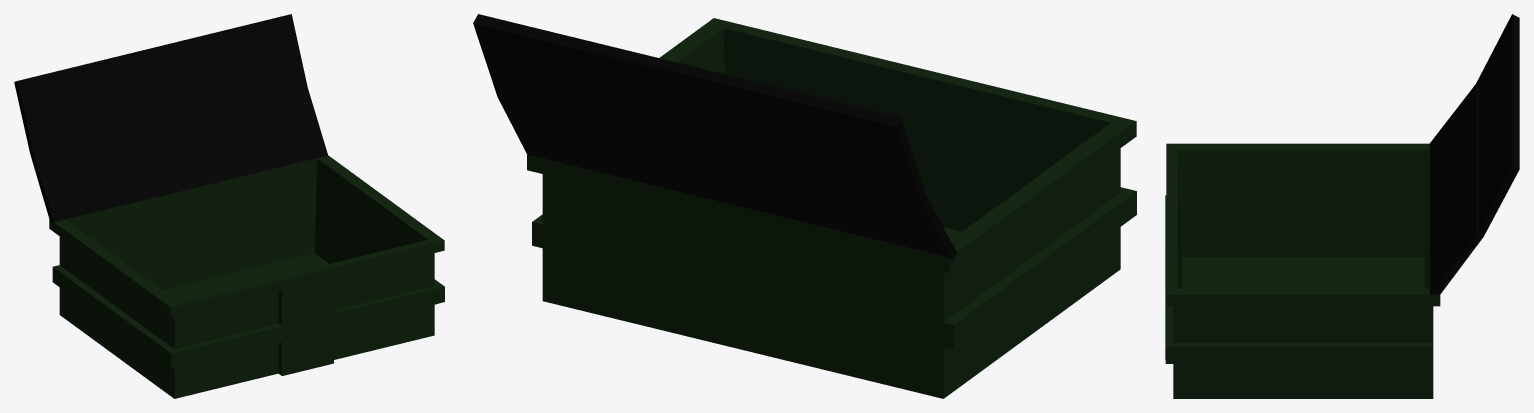
The model's file is Dumpster_BIg.fbx.
3 renders of one model, left to right at view 1: azimuth 30°, elevation 25°; view 2: azimuth 150°, elevation 25°; view 3: azimuth 270°, elevation 25°, orthographic. The views are drawn at different scales.
Parts seen in each view (by area): view 1: Dumpster_Big; view 2: Dumpster_Big; view 3: Dumpster_Big.
Part boxes in pixels (box(x1,y1,x2,y2)): Dumpster_Big: box(14, 14, 444, 398); Dumpster_Big: box(473, 14, 1136, 398); Dumpster_Big: box(1165, 14, 1519, 398).
Size of the model in its own units: 58.1 by 42.53 by 57.51.
